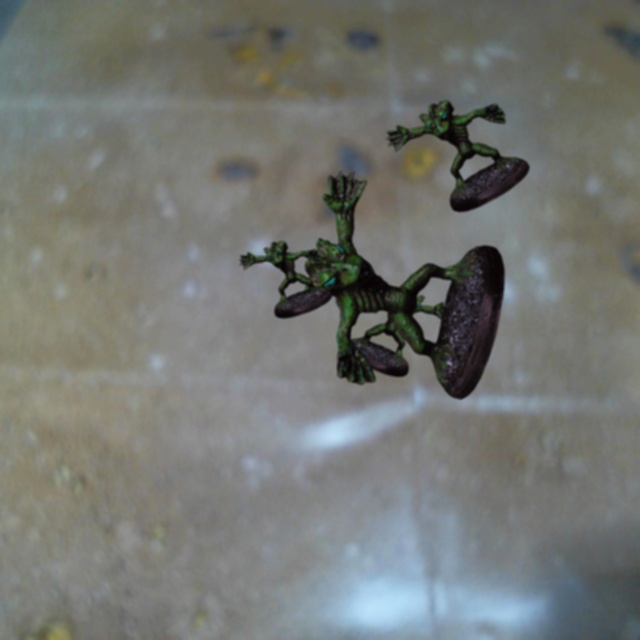pieza_juego: (305, 171, 504, 399), (386, 100, 529, 211), (342, 287, 452, 376), (239, 241, 331, 318)
